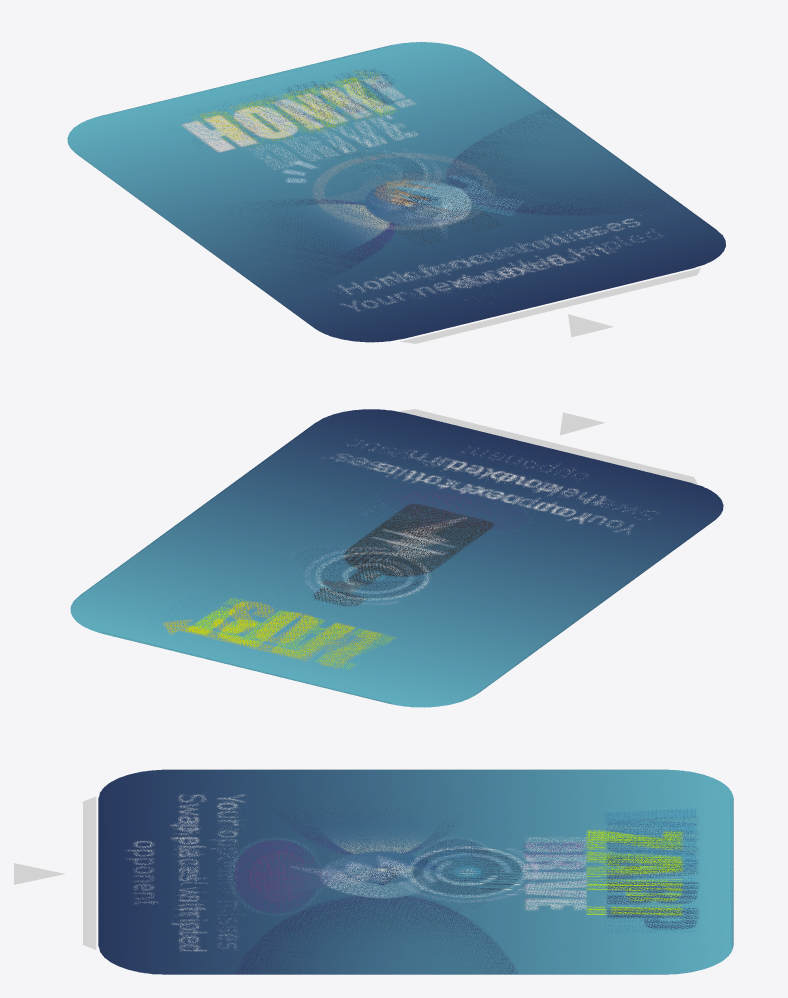
File: Cards.fbx
3 renders of one model, top to bottom at view 1: azimuth 30°, elevation 25°; view 2: azimuth 150°, elevation 25°; view 3: azimuth 270°, elevation 25°, orthographic. The views are drawn at different scales.
Visible parts, largest first — view 1: Honk, WarpDrive, Zap, Nos, FlameThrower, Regenerate, MeatHook, Outline, ElectronBlaster, WormHole; view 2: Nos, Zap, AntimatterCannon, ElectronBlaster, WormHole, FlameThrower, MeatHook, Honk, Outline; view 3: Zap, WarpDrive, WormHole, FlameThrower, ElectronBlaster, Nos, MeatHook, Outline, Honk, AntimatterCannon.
Boxes of the visible parts, <box> form: Honk: <box>68,42,642,340</box>; WarpDrive: <box>106,42,710,341</box>; Zap: <box>127,43,725,342</box>; Nos: <box>69,43,724,342</box>; FlameThrower: <box>322,127,725,341</box>; Regenerate: <box>168,43,725,341</box>; MeatHook: <box>73,43,547,340</box>; Outline: <box>400,268,700,343</box>; ElectronBlaster: <box>277,43,723,274</box>; WormHole: <box>67,42,580,340</box>; Nos: <box>72,409,723,706</box>; Zap: <box>72,409,722,706</box>; AntimatterCannon: <box>72,413,720,706</box>; ElectronBlaster: <box>70,416,688,706</box>; WormHole: <box>71,410,721,707</box>; FlameThrower: <box>71,409,707,705</box>; MeatHook: <box>71,409,720,705</box>; Honk: <box>70,410,691,707</box>; Outline: <box>399,409,697,484</box>; Zap: <box>98,770,730,974</box>; WarpDrive: <box>100,770,732,974</box>; WormHole: <box>101,769,733,973</box>; FlameThrower: <box>99,770,731,974</box>; ElectronBlaster: <box>99,770,731,974</box>; Nos: <box>98,769,730,971</box>; MeatHook: <box>99,771,731,974</box>; Outline: <box>14,796,96,949</box>; Honk: <box>101,770,733,973</box>; AntimatterCannon: <box>100,770,731,969</box>.
Bounding box in the file's own units: 0.5067 × 0.000882 × 0.7201.
